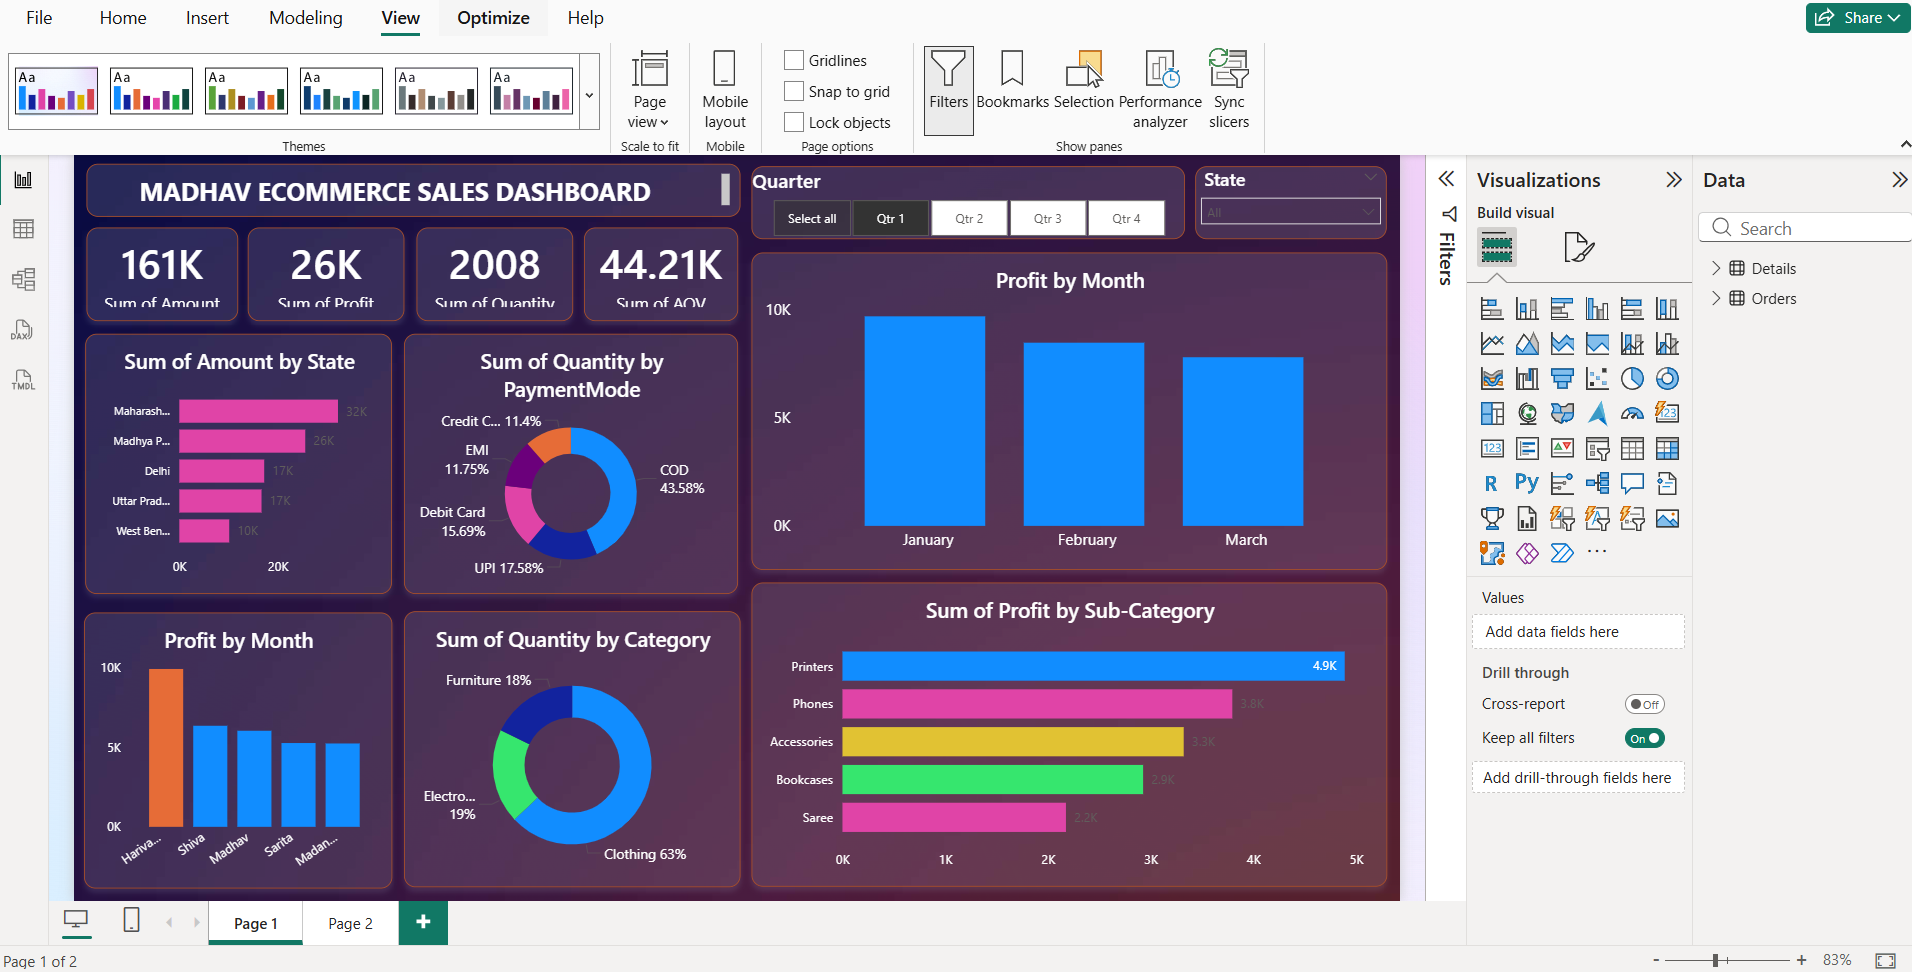

This screenshot's page, from the dashboard's own definition file:
{"tool":"powerbi","page":{"name":"Page 1","canvas":[1280,720],"ordinal":0},"visuals":[{"type":"textbox","box":[12.5,8.8,631.2,51.2],"z":0},{"type":"columnChart","title":"Profit by Month","fields":{"Category":["Orders.Order Date.Variation.Date Hierarchy.Month"],"Y":["Sum(Details.Profit)"]},"box":[653.8,93.8,613.8,306.2],"z":1000},{"type":"barChart","fields":{"Y":["Sum(Details.Profit)"],"Category":["Details.Sub-Category"]},"box":[653.8,412.5,613.8,293.8],"z":2000},{"type":"donutChart","fields":{"Category":["Details.Category"],"Y":["Sum(Details.Quantity)"]},"box":[318.8,440,325,266.2],"z":3000},{"type":"donutChart","fields":{"Category":["Details.PaymentMode"],"Y":["Sum(Details.Quantity)"]},"box":[318.8,172.5,322.5,251.2],"z":4000},{"type":"card","fields":{"Values":["Sum(Details.Amount)"]},"box":[12.5,70,146.2,90],"z":5000},{"type":"card","fields":{"Values":["Sum(Details.Profit)"]},"box":[167.5,70,151.2,90],"z":6000},{"type":"card","fields":{"Values":["Sum(Details.Quantity)"]},"box":[330,70,151.2,90],"z":7000},{"type":"card","fields":{"Values":["Sum(Details.AOV)"]},"box":[492.5,70,148.8,90],"z":8000},{"type":"barChart","fields":{"Category":["Orders.State"],"Y":["Sum(Details.Amount)"]},"box":[11.2,172.5,296.2,251.2],"z":9000},{"type":"columnChart","title":"Profit by Month","fields":{"Category":["Orders.CustomerName"],"Y":["Sum(Details.Amount)"]},"box":[10,441.2,297.5,266.2],"z":10000},{"type":"slicer","fields":{"Values":["Orders.State"]},"box":[1082.5,11.2,185,70],"z":11000},{"type":"slicer","title":"Quarter","fields":{"Values":["Orders.Order Date.Variation.Date Hierarchy.Quarter"]},"box":[653.8,11.2,418.8,70],"z":12000}]}

Visuals, with their boxes on the page's 1280x720 design canvas (x1, y1, x2, y2). These are canvas units, not pixel positions in the 1912x972 screenshot, which may show the page scaled, cropped or inside an application window:
textbox: (12,9,644,60)
"Profit by Month" columnChart: (654,94,1268,400)
barChart - Sum(Details.Profit) x Details.Sub-Category: (654,412,1268,706)
donutChart - Details.Category x Sum(Details.Quantity): (319,440,644,706)
donutChart - Details.PaymentMode x Sum(Details.Quantity): (319,172,641,424)
card - Sum(Details.Amount): (12,70,159,160)
card - Sum(Details.Profit): (168,70,319,160)
card - Sum(Details.Quantity): (330,70,481,160)
card - Sum(Details.AOV): (492,70,641,160)
barChart - Orders.State x Sum(Details.Amount): (11,172,307,424)
"Profit by Month" columnChart: (10,441,308,707)
slicer - Orders.State: (1082,11,1268,81)
"Quarter" slicer: (654,11,1073,81)
